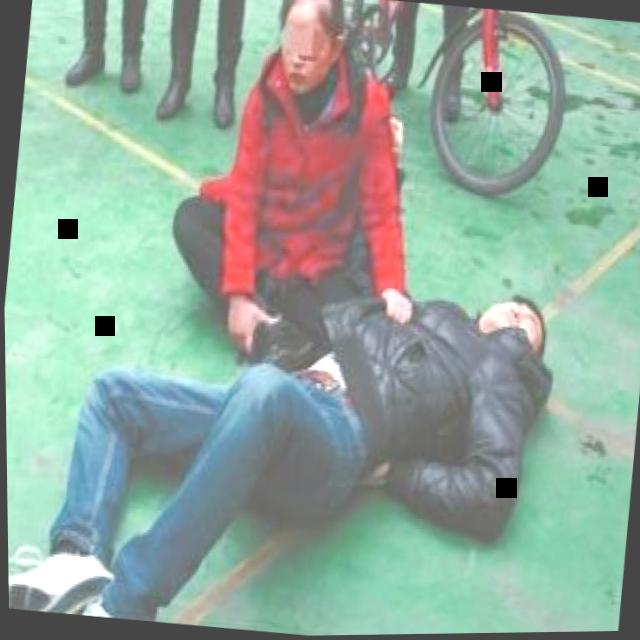Fall-Detected: (3, 216, 576, 640)
